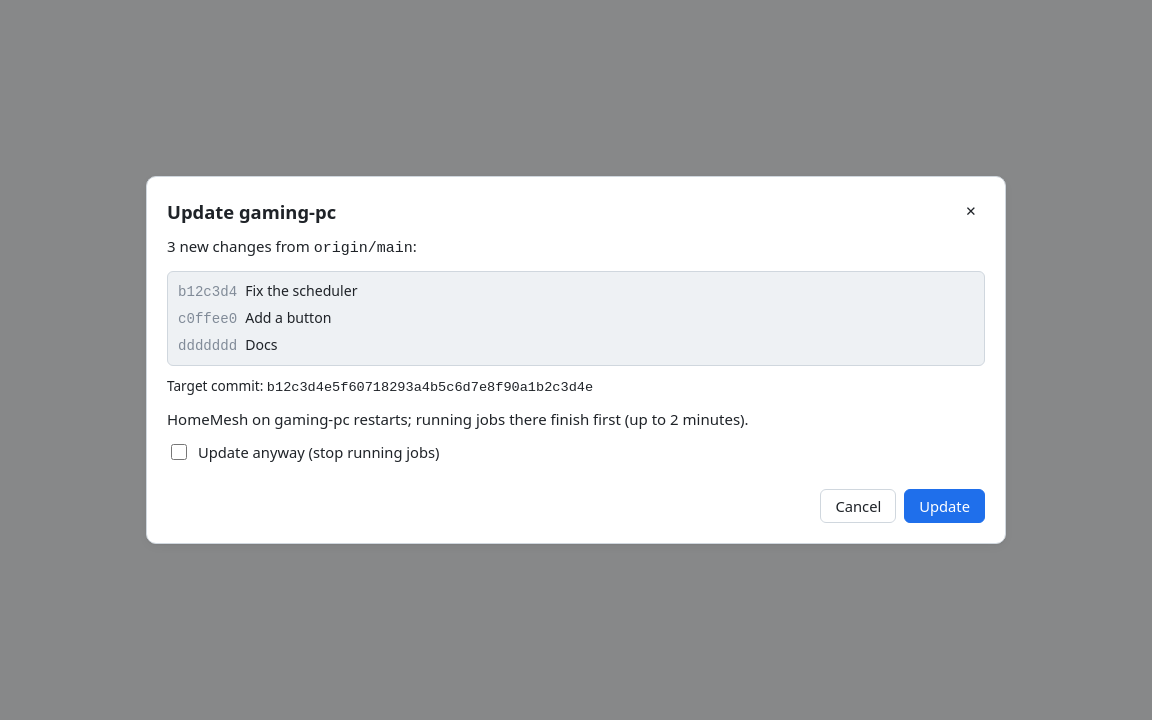
Test: worker confirm dialog › shows a refusal from the hub and stays open
Click the button "Update": (945, 506) 904,489 -> 985,523
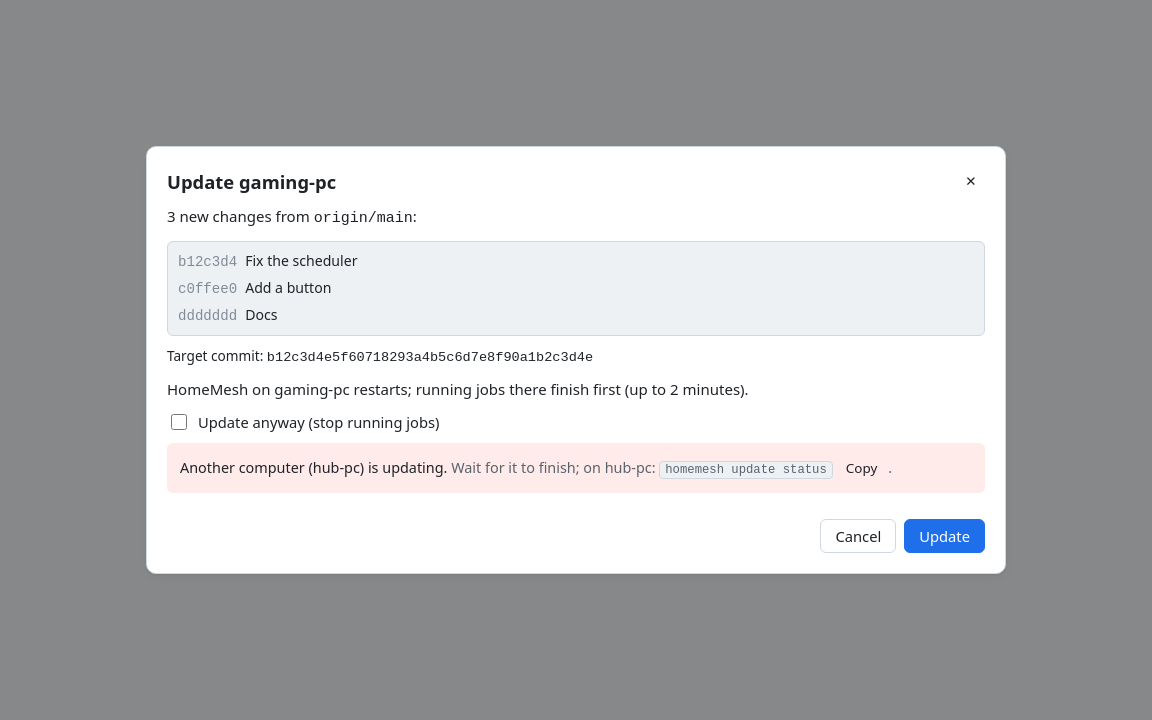
Result: the message shows "Another computer (hub-pc) is updating." at 180,458 -> 447,477
